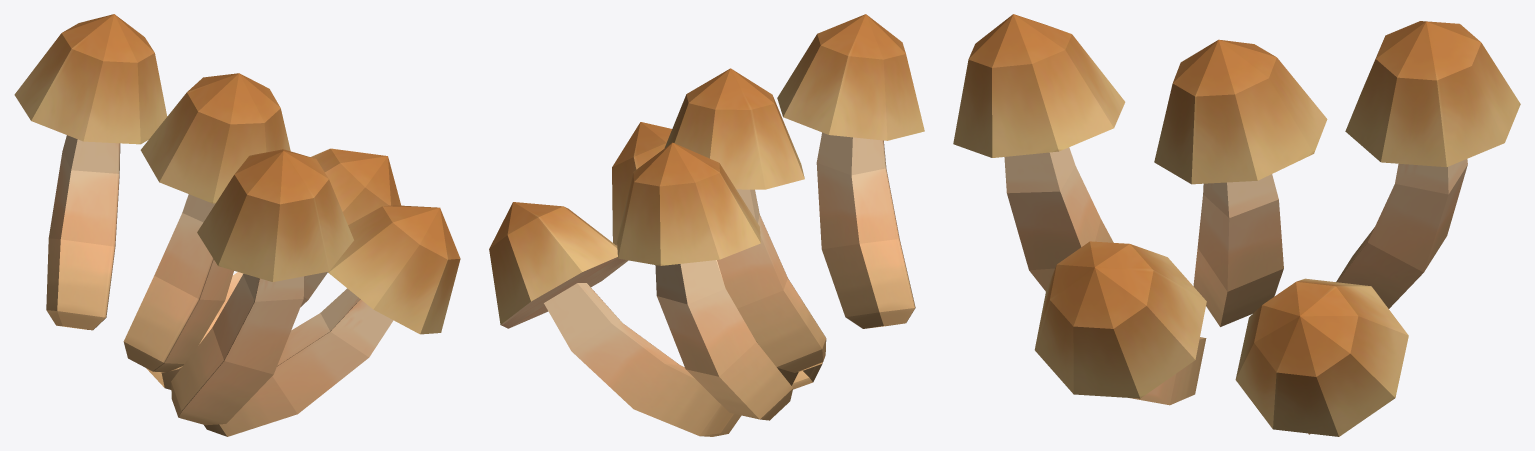
File: honey-mushroom-37.glb
The picture shows the model from 3 angles, left to right: view 1: azimuth 30°, elevation 25°; view 2: azimuth 150°, elevation 25°; view 3: azimuth 270°, elevation 25°; orthographic projection. The views are drawn at different scales.
Parts seen in each view (by area): view 1: honey_mushroom_37; view 2: honey_mushroom_37; view 3: honey_mushroom_37.
Boxes of the visible parts, left/top/right/bottom form: honey_mushroom_37: left=14, top=14, right=460, bottom=436; honey_mushroom_37: left=489, top=14, right=924, bottom=436; honey_mushroom_37: left=953, top=14, right=1520, bottom=436.
Bounding box in the file's own units: 2.48 × 2.54 × 3.37.
1 material, 1 textured.
